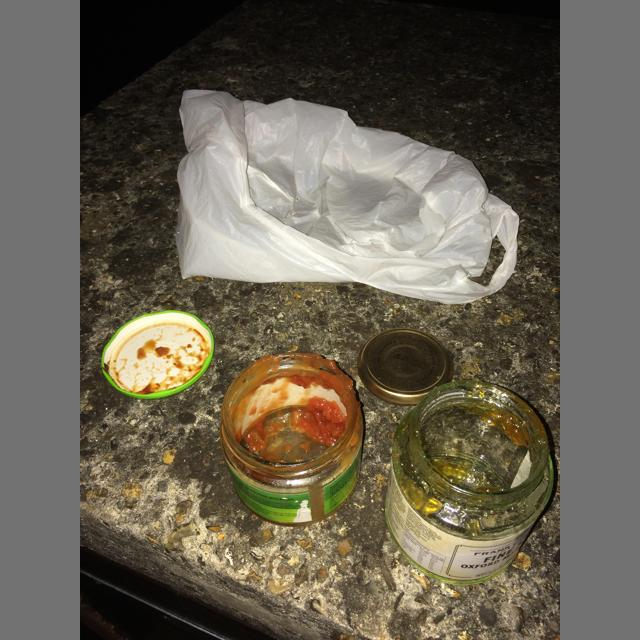litter: (176, 90, 520, 304), (385, 380, 554, 585), (220, 353, 363, 528), (101, 310, 215, 399), (357, 328, 454, 407)
